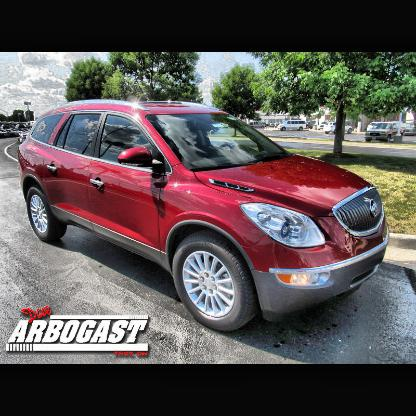Buick Enclave SUV 2012: (18, 99, 390, 334)
